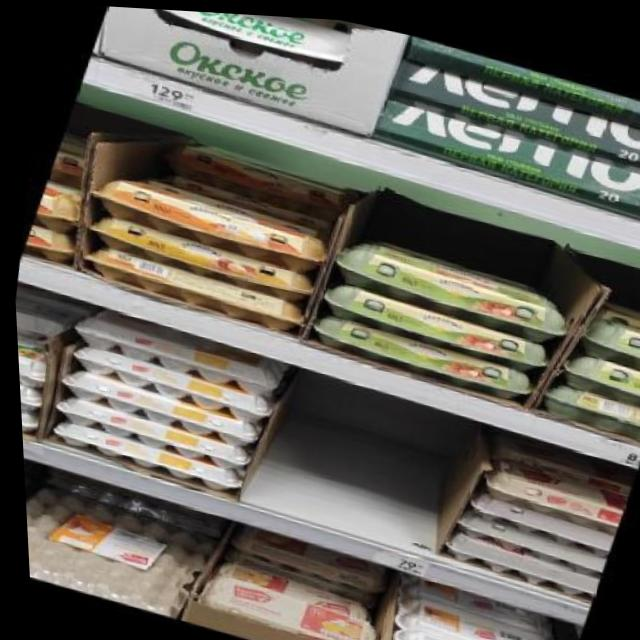Egg: (318, 222, 576, 345), (80, 168, 333, 275), (309, 270, 556, 371), (63, 297, 292, 399), (300, 303, 537, 401), (79, 207, 319, 303), (44, 362, 271, 454), (54, 337, 280, 429), (36, 389, 263, 479), (32, 413, 255, 499), (139, 6, 362, 70), (185, 568, 380, 640), (467, 444, 625, 527), (378, 586, 563, 640), (553, 339, 640, 404), (545, 375, 640, 434), (565, 304, 640, 367), (372, 617, 560, 640), (28, 175, 94, 237), (12, 285, 74, 349), (43, 136, 108, 191), (17, 221, 80, 268), (14, 332, 51, 391), (15, 377, 45, 415), (16, 400, 36, 433)
